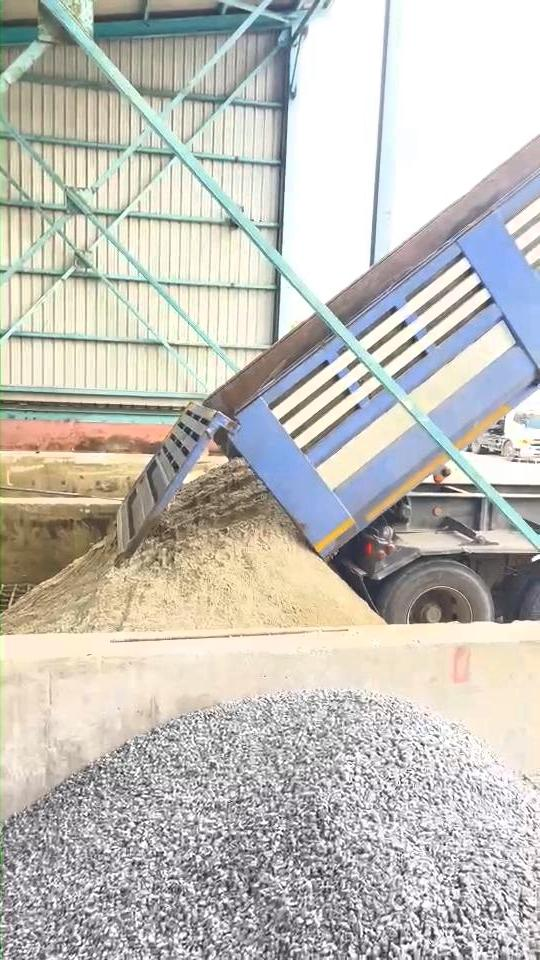gravel: (4, 692, 540, 959)
sand: (4, 460, 383, 632)
